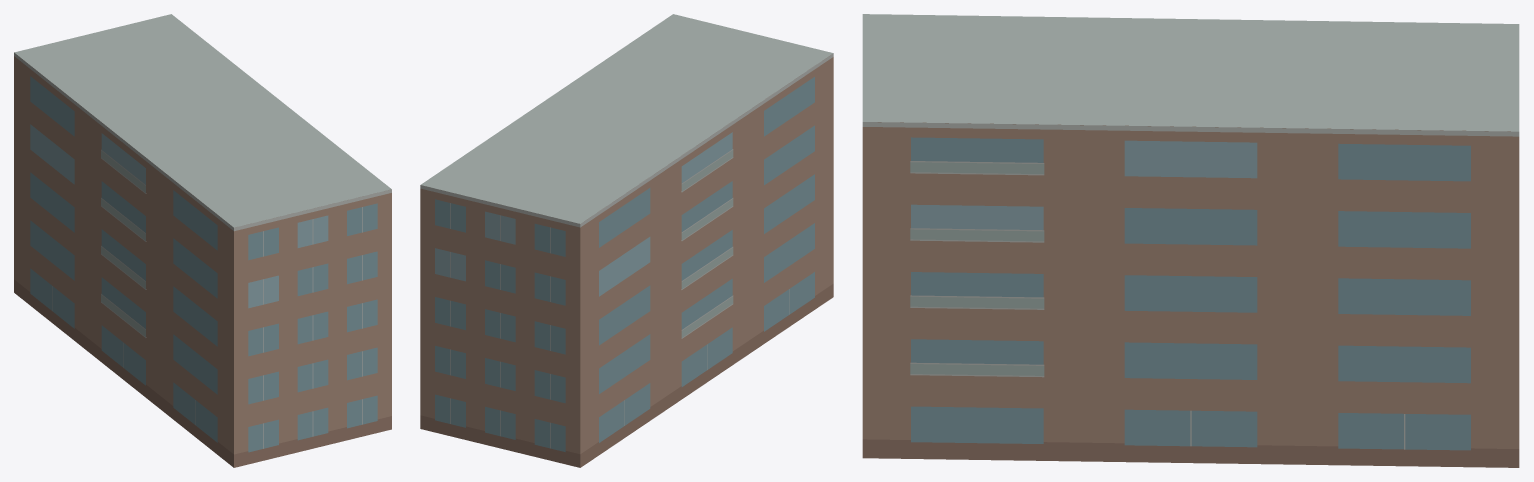
Rendered from survey-upis-32477073.glb.
3 views of the same model, side by side, from view 1: azimuth 30°, elevation 25°; view 2: azimuth 150°, elevation 25°; view 3: azimuth 270°, elevation 25° (orthographic). The views are drawn at different scales.
Parts seen in each view (by area): view 1: survey-upis-32477073.tmp; view 2: survey-upis-32477073.tmp; view 3: survey-upis-32477073.tmp.
Boxes of the visible parts, x1,y1,x2,y2 form: survey-upis-32477073.tmp: (14, 14, 391, 467); survey-upis-32477073.tmp: (420, 14, 833, 467); survey-upis-32477073.tmp: (862, 14, 1519, 467).
Bounding box in the file's own units: 12.31 × 16.4 × 29.05.
